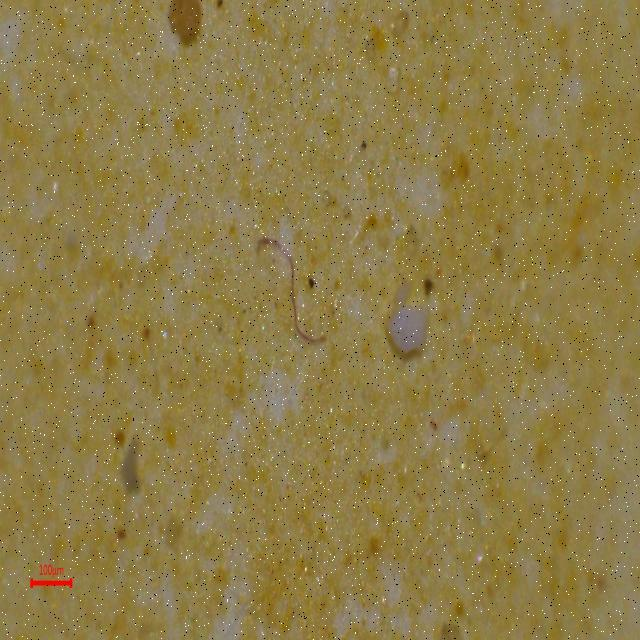bead: (385, 301, 433, 360)
fiber: (254, 231, 333, 349)
